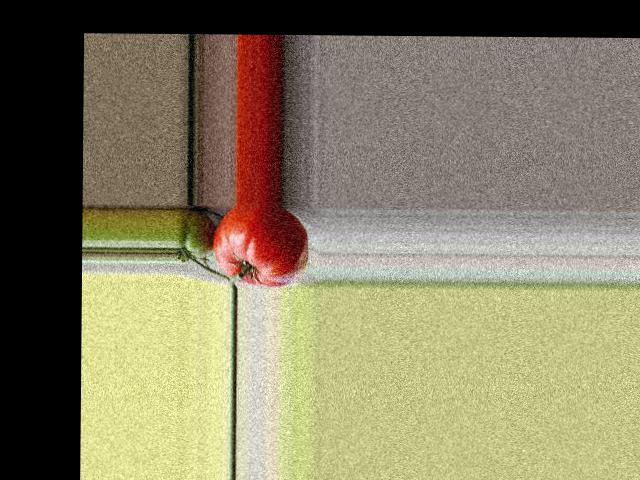tomato: (213, 204, 309, 287)
